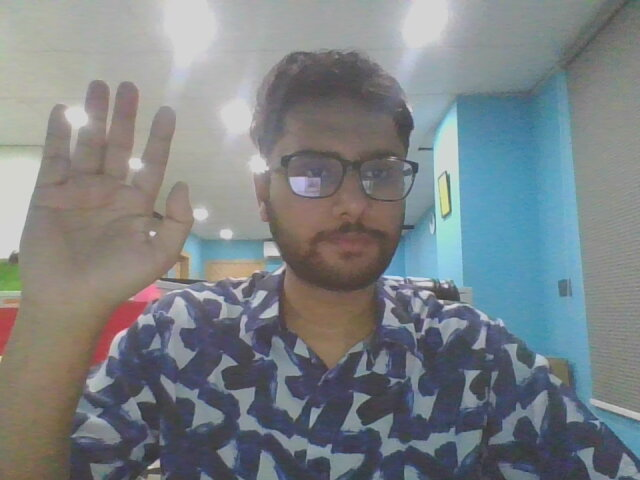hello: (14, 67, 210, 364)
